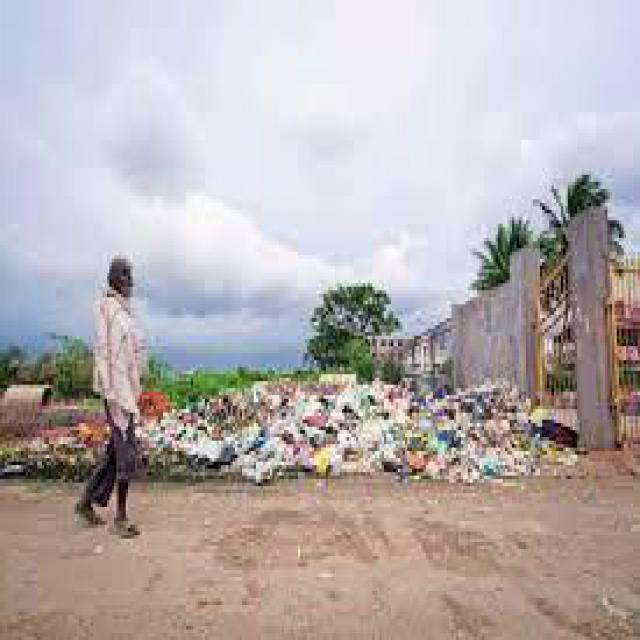garbage: (163, 388, 549, 490), (5, 416, 111, 479)
